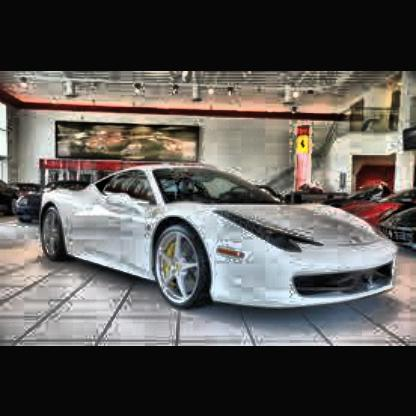Ferrari 458 Italia Coupe 2012: (42, 163, 400, 312)
